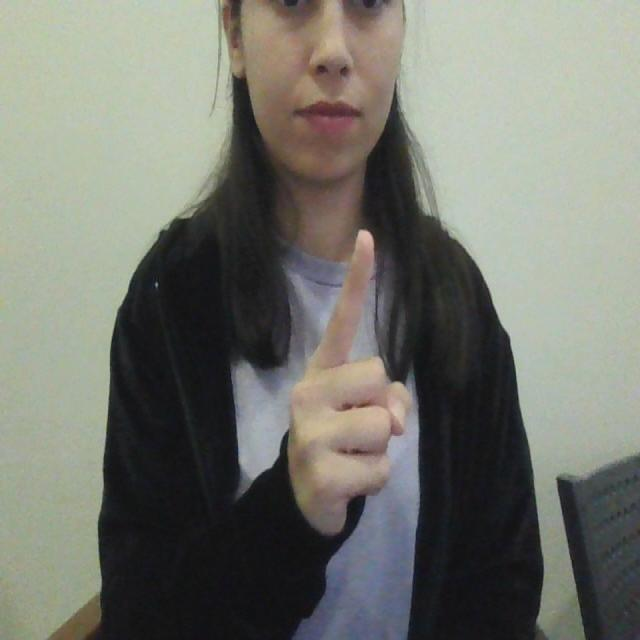Hayir: (276, 214, 415, 558)
